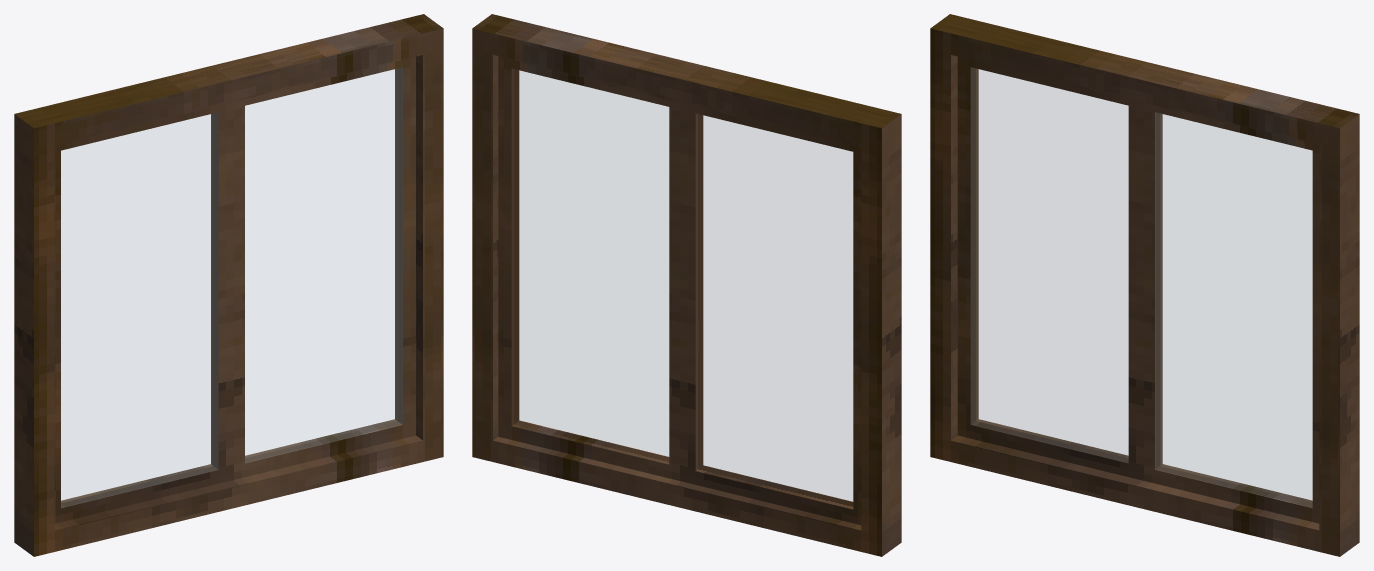
File: window-2.glb
The picture shows the model from 3 angles, left to right: view 1: azimuth 30°, elevation 25°; view 2: azimuth 150°, elevation 25°; view 3: azimuth 330°, elevation 25°; orthographic projection.
Visible parts, largest first — view 1: Cube.002; view 2: Cube.002; view 3: Cube.002.
Boxes of the visible parts, box(x1,y1,x2,y2) form: Cube.002: box(14, 14, 443, 556); Cube.002: box(472, 14, 901, 556); Cube.002: box(930, 14, 1359, 556).
Size of the model in its own units: 1.2 by 1.2 by 0.1.
3 materials, 1 textured.
